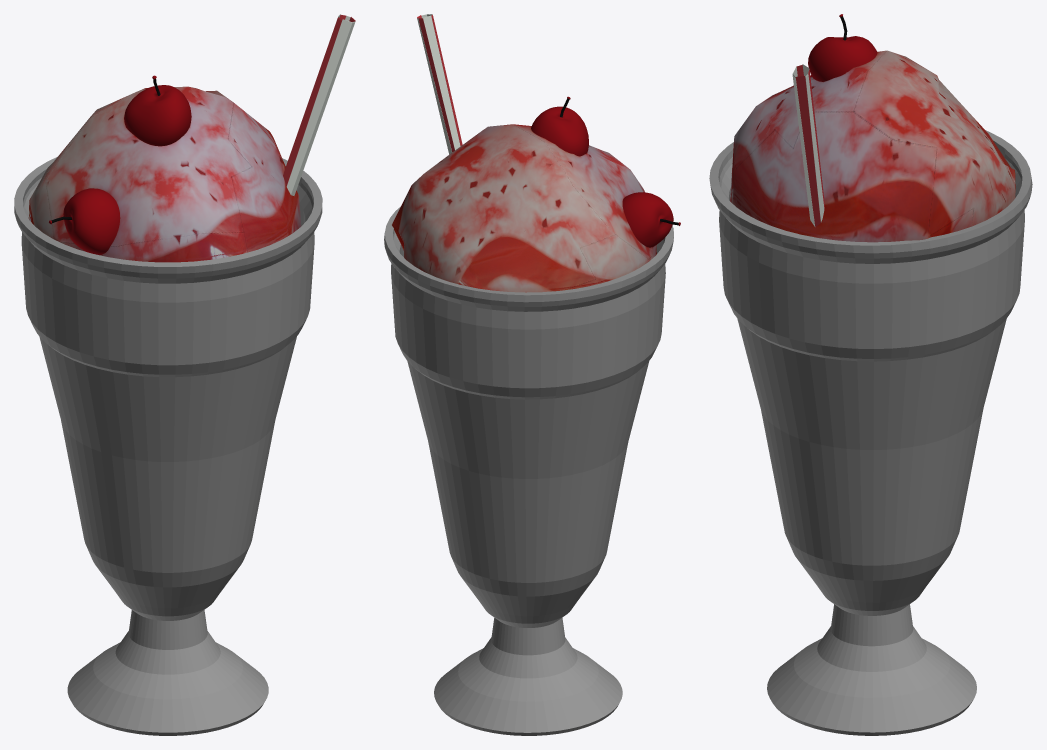
Rendered from milkshake.glb.
3 renders of one model, left to right at view 1: azimuth 30°, elevation 25°; view 2: azimuth 150°, elevation 25°; view 3: azimuth 270°, elevation 25°, orthographic. The views are drawn at different scales.
Visible parts, largest first — view 1: GLASS, ICECREAM, CHERRY, CHERRY.001, STRAW, Cylinder.002; view 2: GLASS, ICECREAM, CHERRY.001, CHERRY, STRAW, Cylinder.002; view 3: GLASS, ICECREAM, CHERRY, Cylinder.002, STRAW.
Boxes of the visible parts, <box> form: GLASS: <box>14,157,322,735</box>; ICECREAM: <box>28,86,301,262</box>; CHERRY: <box>124,75,191,146</box>; CHERRY.001: <box>49,188,120,254</box>; STRAW: <box>286,14,355,195</box>; Cylinder.002: <box>283,15,355,186</box>; GLASS: <box>384,206,673,735</box>; ICECREAM: <box>392,124,656,292</box>; CHERRY.001: <box>622,192,680,247</box>; CHERRY: <box>531,96,588,156</box>; STRAW: <box>417,14,460,154</box>; Cylinder.002: <box>417,15,462,152</box>; GLASS: <box>709,130,1032,735</box>; ICECREAM: <box>730,50,1015,242</box>; CHERRY: <box>808,14,877,81</box>; Cylinder.002: <box>795,65,824,226</box>; STRAW: <box>792,64,824,226</box>.
Size of the model in its own units: 75.41 by 165 by 69.31.
6 materials, 1 textured.
